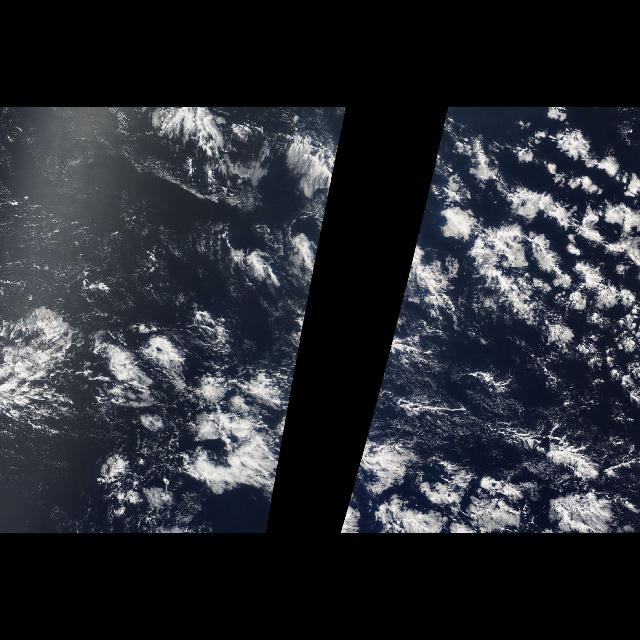Fish: (364, 394, 640, 532)
Flower: (339, 113, 639, 532), (83, 303, 295, 533)
Sugar: (5, 113, 183, 305), (393, 366, 545, 444)
